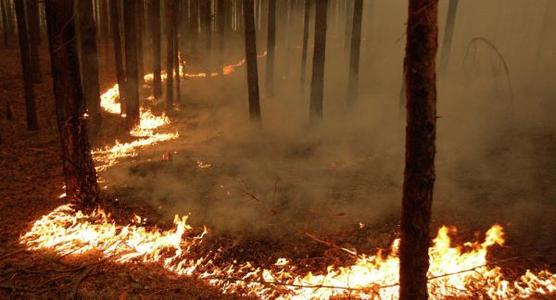fire: (281, 253, 496, 298), (35, 209, 185, 266)
smoke: (194, 75, 398, 222), (442, 3, 549, 207)
